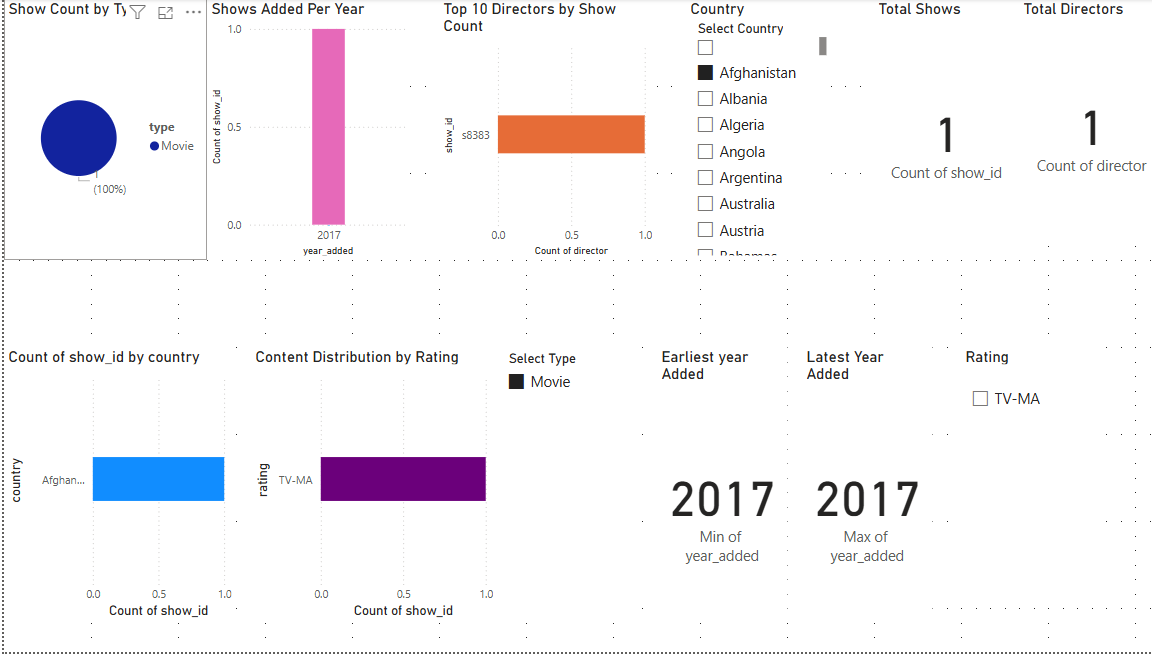

This screenshot's page, from the dashboard's own definition file:
{"tool":"powerbi","page":{"name":"Page 1","canvas":[1280,720],"ordinal":0},"visuals":[{"type":"pieChart","fields":{"Category":["netflix_titles.type"],"Y":["CountNonNull(netflix_titles.show_id)"]},"box":[0,0,224,288],"z":0},{"type":"clusteredColumnChart","fields":{"Category":["netflix_titles.year_added"],"Y":["CountNonNull(netflix_titles.show_id)"]},"box":[272,0,272,288],"z":1000},{"type":"barChart","fields":{"Category":["netflix_titles.country"],"Y":["CountNonNull(netflix_titles.show_id)"]},"box":[0,384,384,272],"z":2000},{"type":"barChart","fields":{"Category":["netflix_titles.show_id"],"Y":["CountNonNull(netflix_titles.director)"]},"box":[560,0,272,288],"z":3000},{"type":"clusteredBarChart","fields":{"Category":["netflix_titles.rating"],"Y":["CountNonNull(netflix_titles.show_id)"]},"box":[560,384,272,272],"z":4000}]}

Visuals, with their boxes in screenshot pixels (x1, y1, x2, y2), scaled from the page's 1280x720 canvas onto the 1152x660 screenshot:
pieChart - netflix_titles.type x CountNonNull(netflix_titles.show_id): <box>0,0,202,264</box>
clusteredColumnChart - netflix_titles.year_added x CountNonNull(netflix_titles.show_id): <box>245,0,490,264</box>
barChart - netflix_titles.country x CountNonNull(netflix_titles.show_id): <box>0,352,346,601</box>
barChart - netflix_titles.show_id x CountNonNull(netflix_titles.director): <box>504,0,749,264</box>
clusteredBarChart - netflix_titles.rating x CountNonNull(netflix_titles.show_id): <box>504,352,749,601</box>
